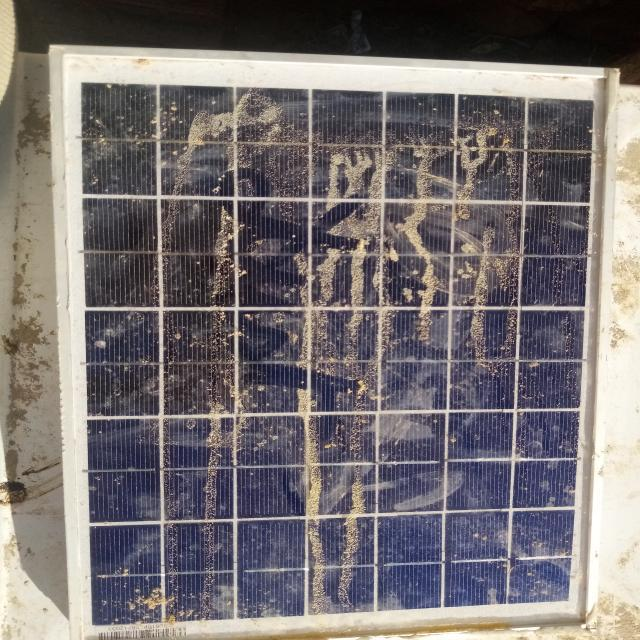faulty: (53, 49, 617, 638)
